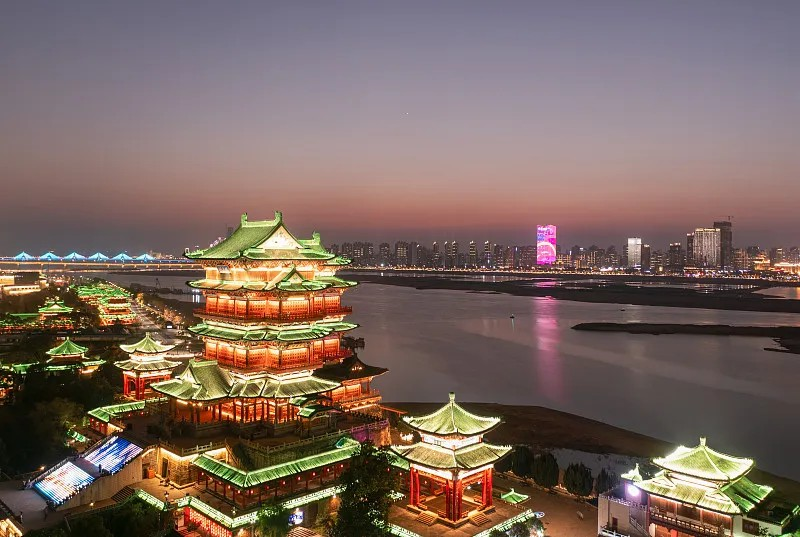Teng: (148, 211, 390, 423)
